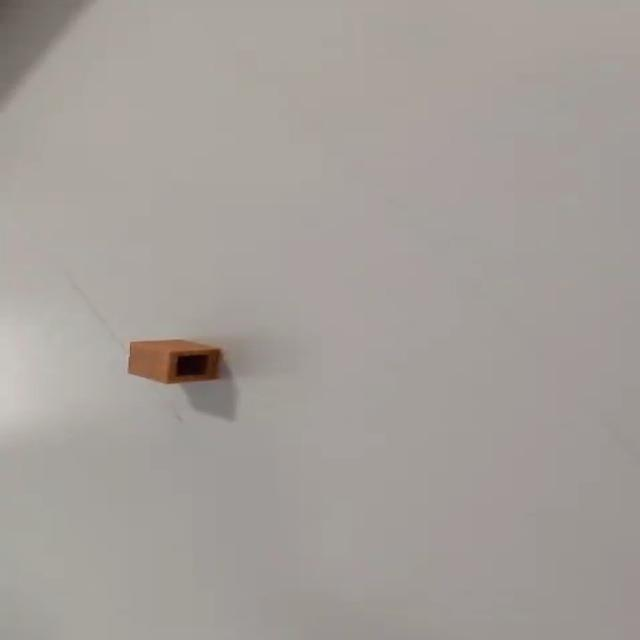C1x1x1: (125, 337, 222, 385)
